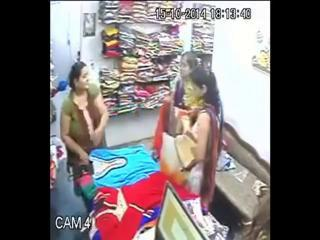Normal: (153, 69, 221, 215), (59, 61, 110, 213)
